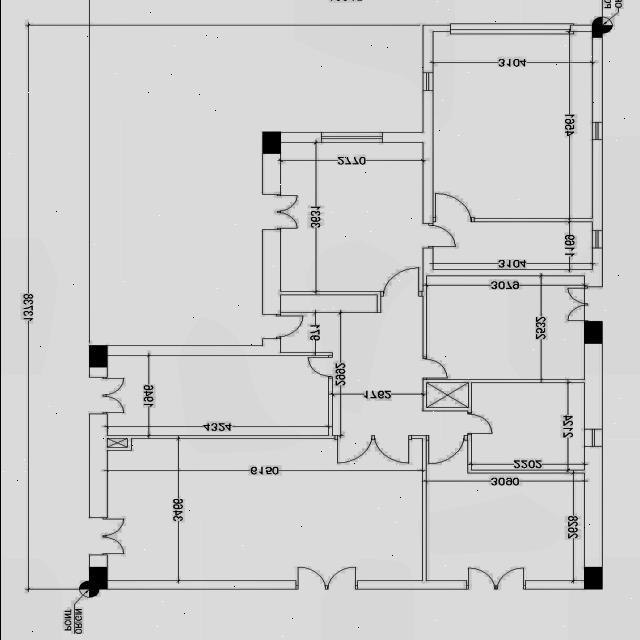Column: (260, 131, 280, 154), (583, 321, 602, 344), (88, 567, 107, 589), (583, 567, 602, 589), (88, 346, 106, 368), (591, 24, 602, 38)
Door: (379, 268, 422, 296), (432, 194, 473, 222), (426, 436, 466, 464), (274, 314, 302, 338), (428, 224, 454, 248), (466, 412, 492, 434), (422, 357, 446, 379), (307, 356, 331, 378)
Double-Door: (334, 435, 411, 463), (295, 567, 357, 589), (88, 518, 123, 556), (466, 568, 524, 590), (88, 378, 123, 413), (262, 194, 296, 230), (566, 287, 586, 321)
Window: (449, 24, 573, 34), (320, 132, 382, 142), (584, 429, 602, 447), (422, 72, 432, 90), (591, 122, 601, 140), (591, 230, 601, 248)
